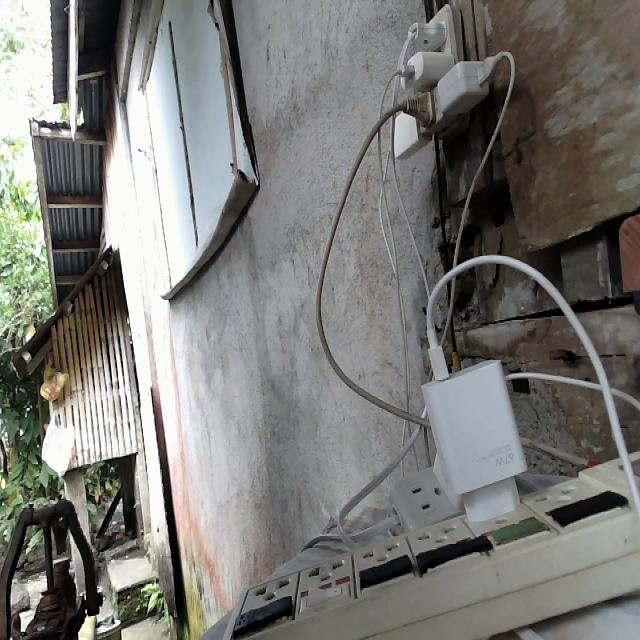-: (375, 1, 516, 163)
